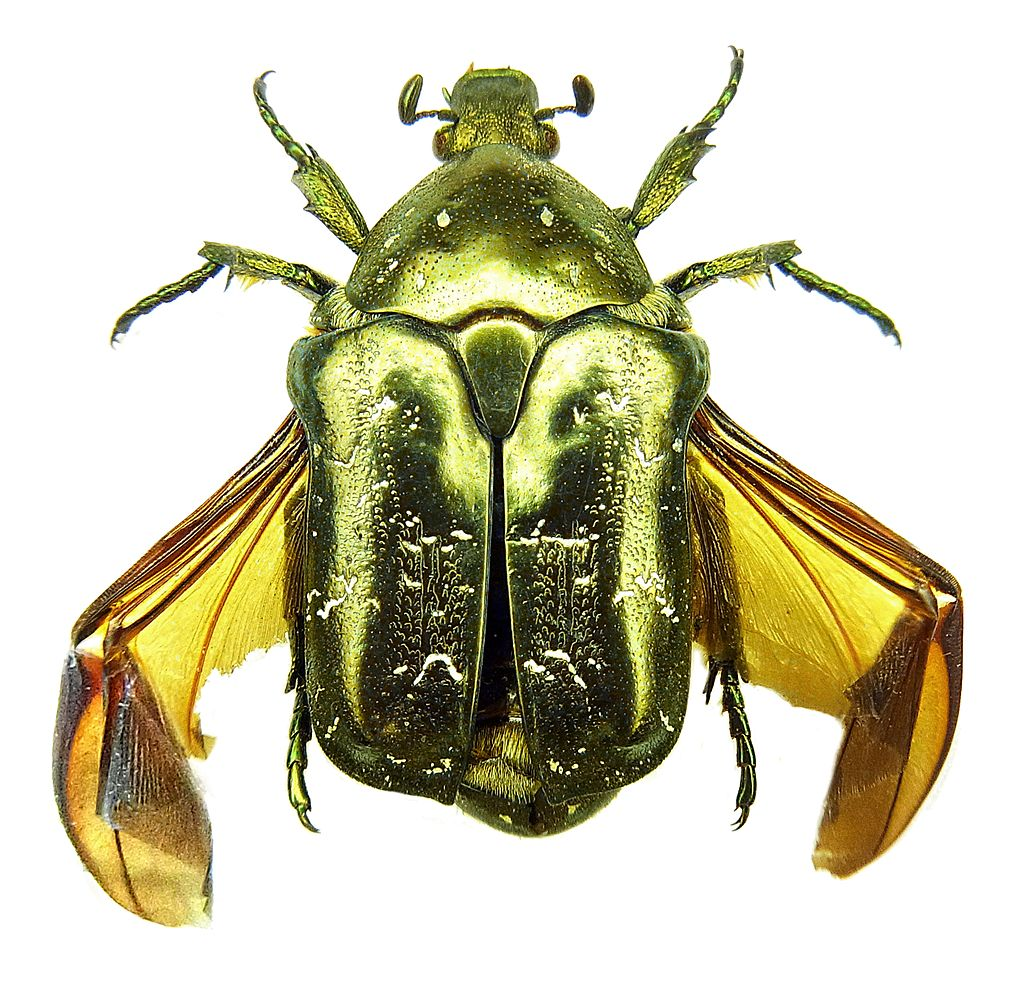Protaetia_lugubris: (98, 36, 905, 884)
